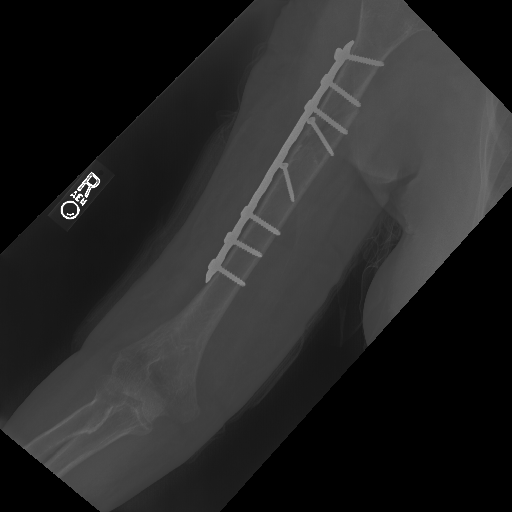implant: (201, 147, 295, 292), (305, 38, 387, 156)
